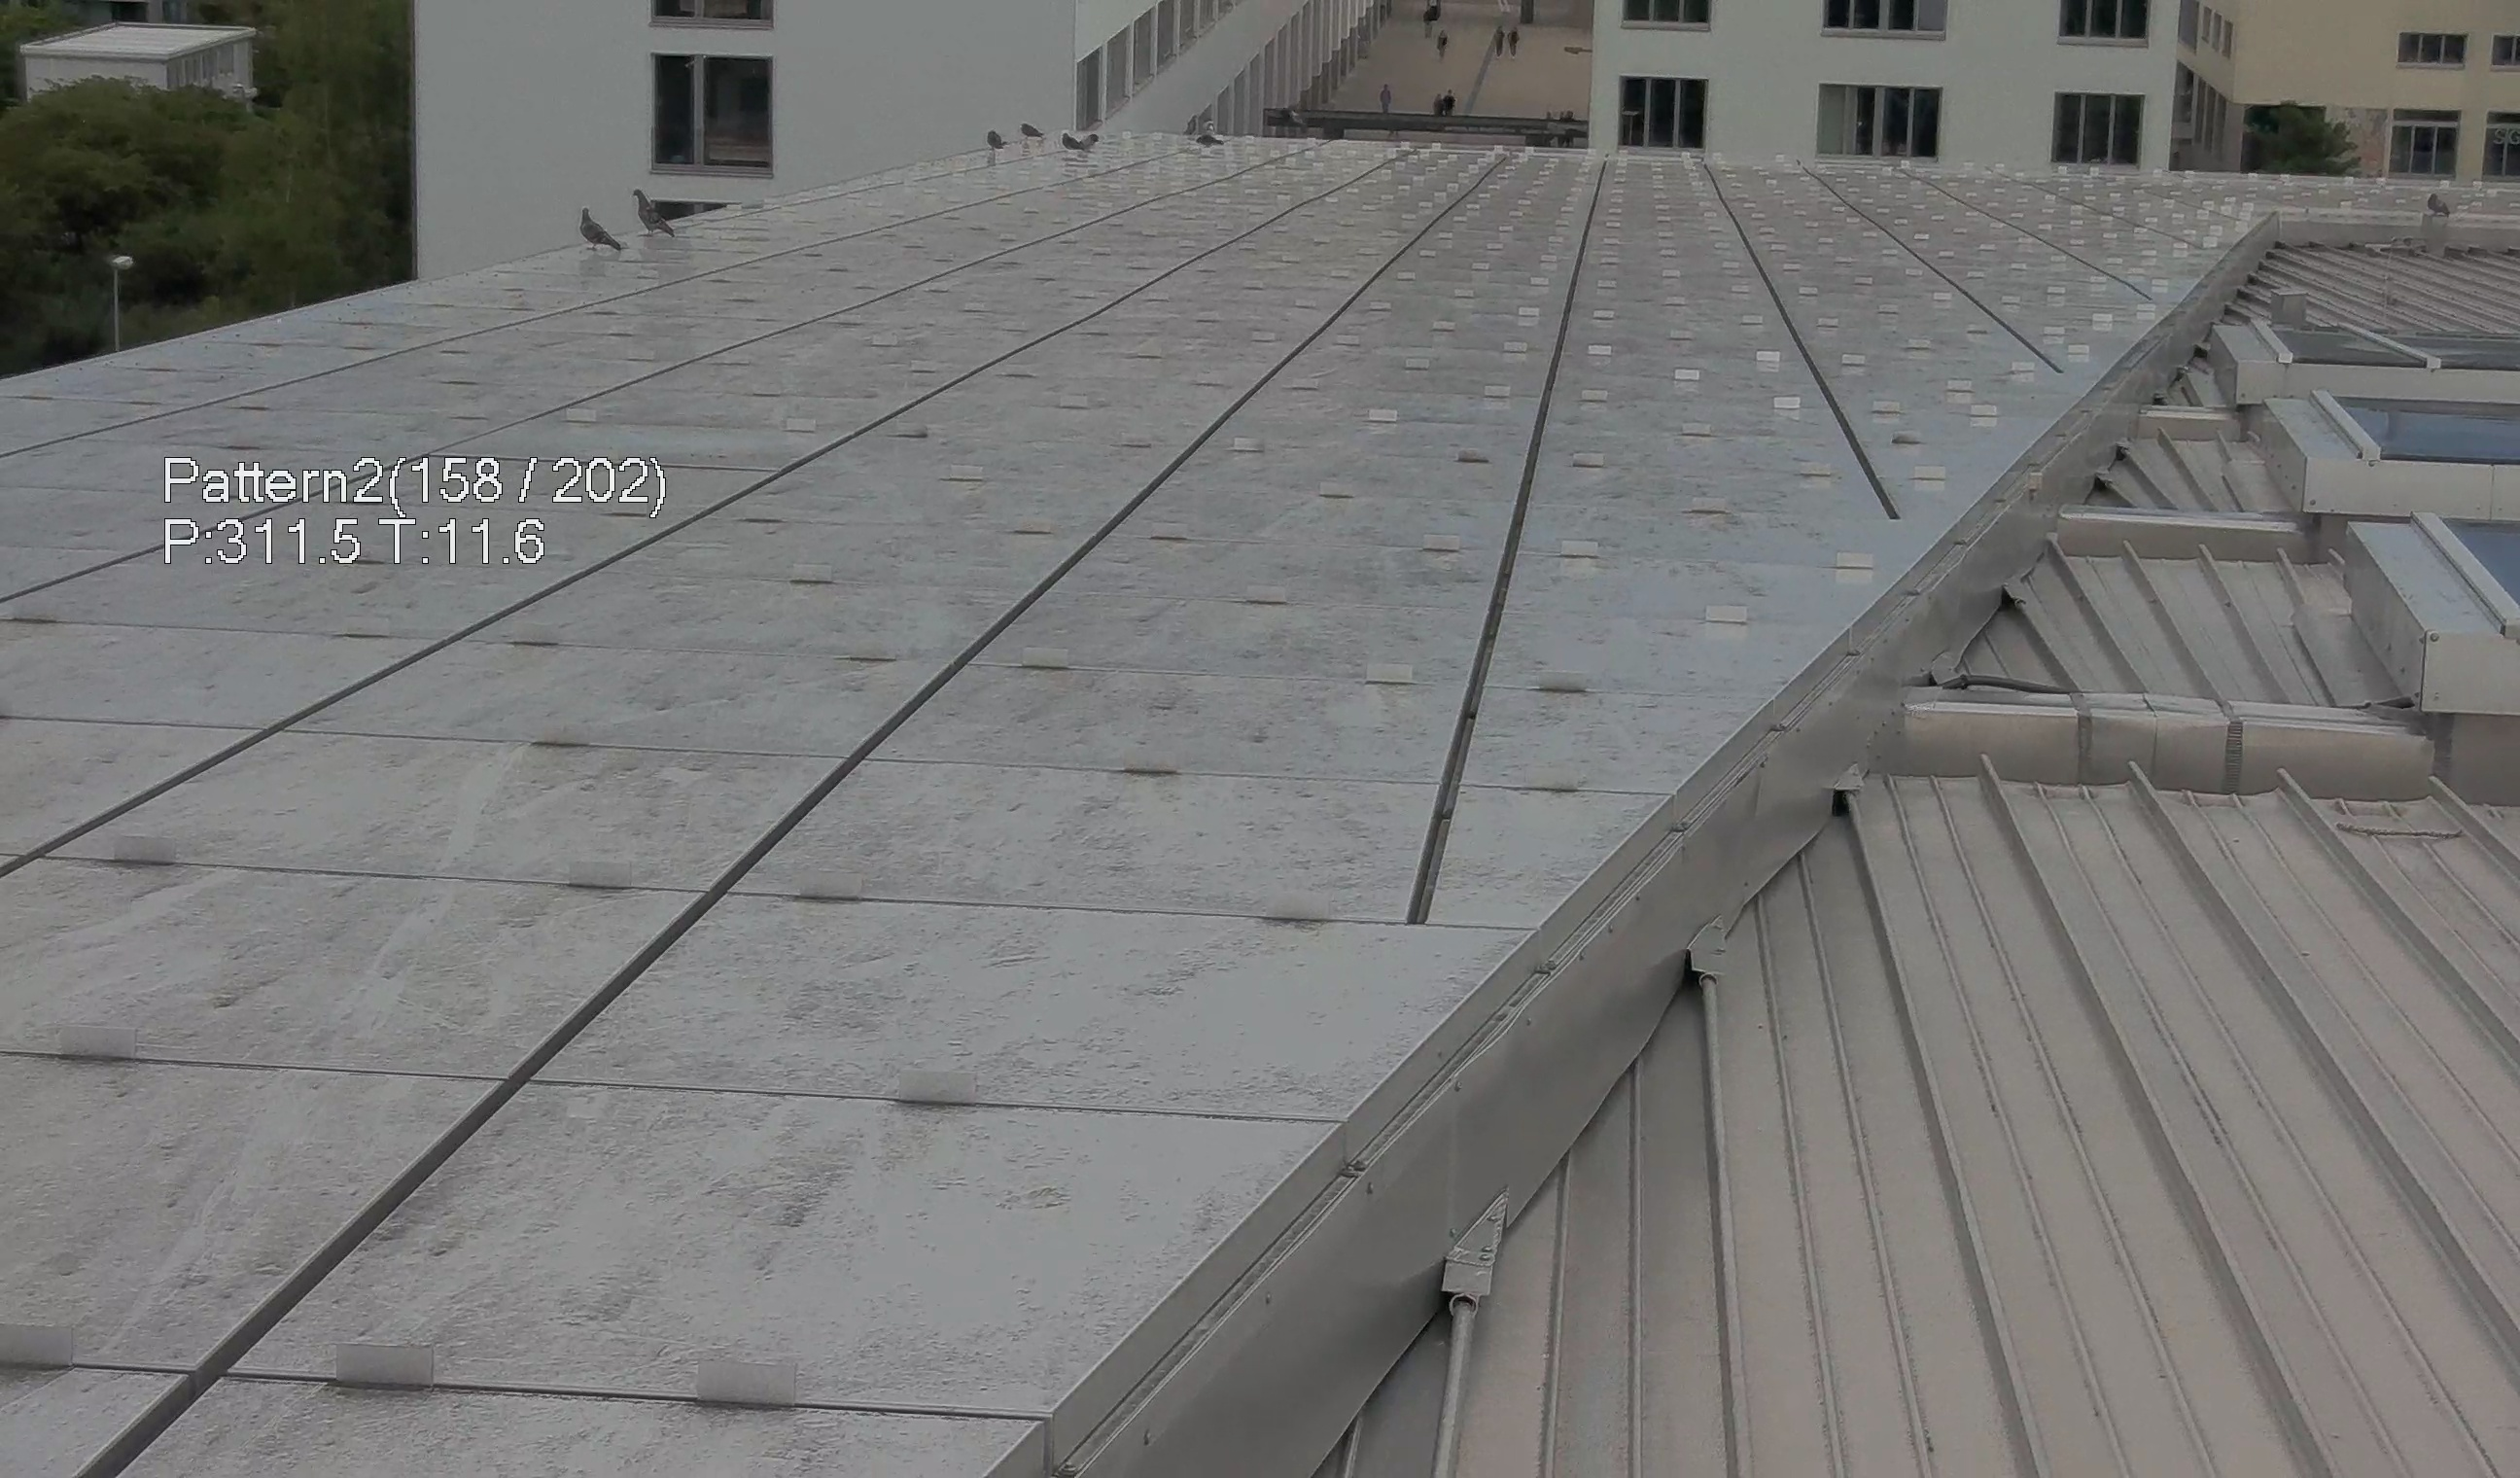Pigeon: (563, 199, 630, 257), (630, 187, 681, 239), (1015, 120, 1048, 141), (981, 125, 1006, 153), (1187, 132, 1226, 148), (1055, 132, 1083, 151), (1184, 113, 1201, 135), (1082, 132, 1101, 150)
